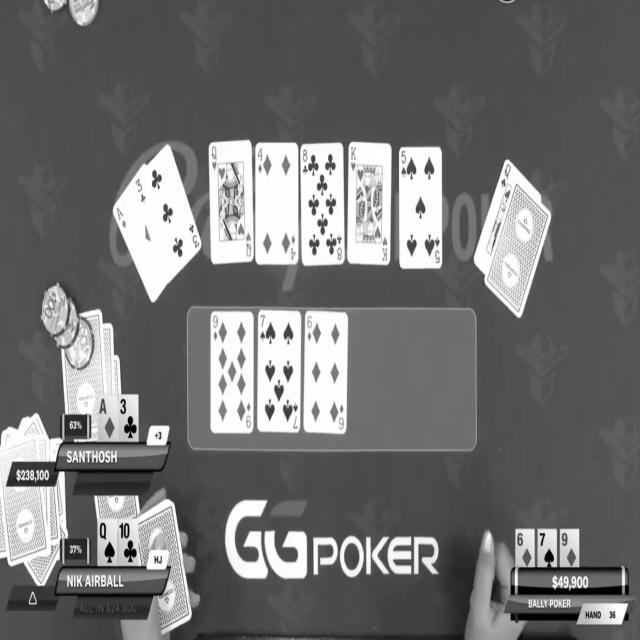10C: (118, 519, 138, 566)
3C: (119, 395, 139, 443)
6D: (515, 526, 535, 566)
7S: (539, 528, 557, 569)
9D: (560, 529, 579, 568)
AD: (98, 394, 120, 443)
QS: (99, 520, 118, 567)
